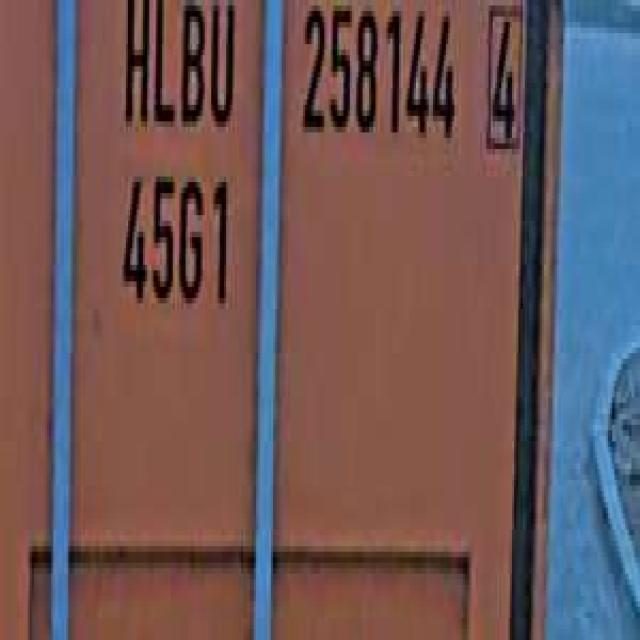dv: (480, 0, 525, 166)
owner: (117, 0, 241, 138)
serial: (294, 0, 459, 177)
size: (115, 155, 237, 331)
